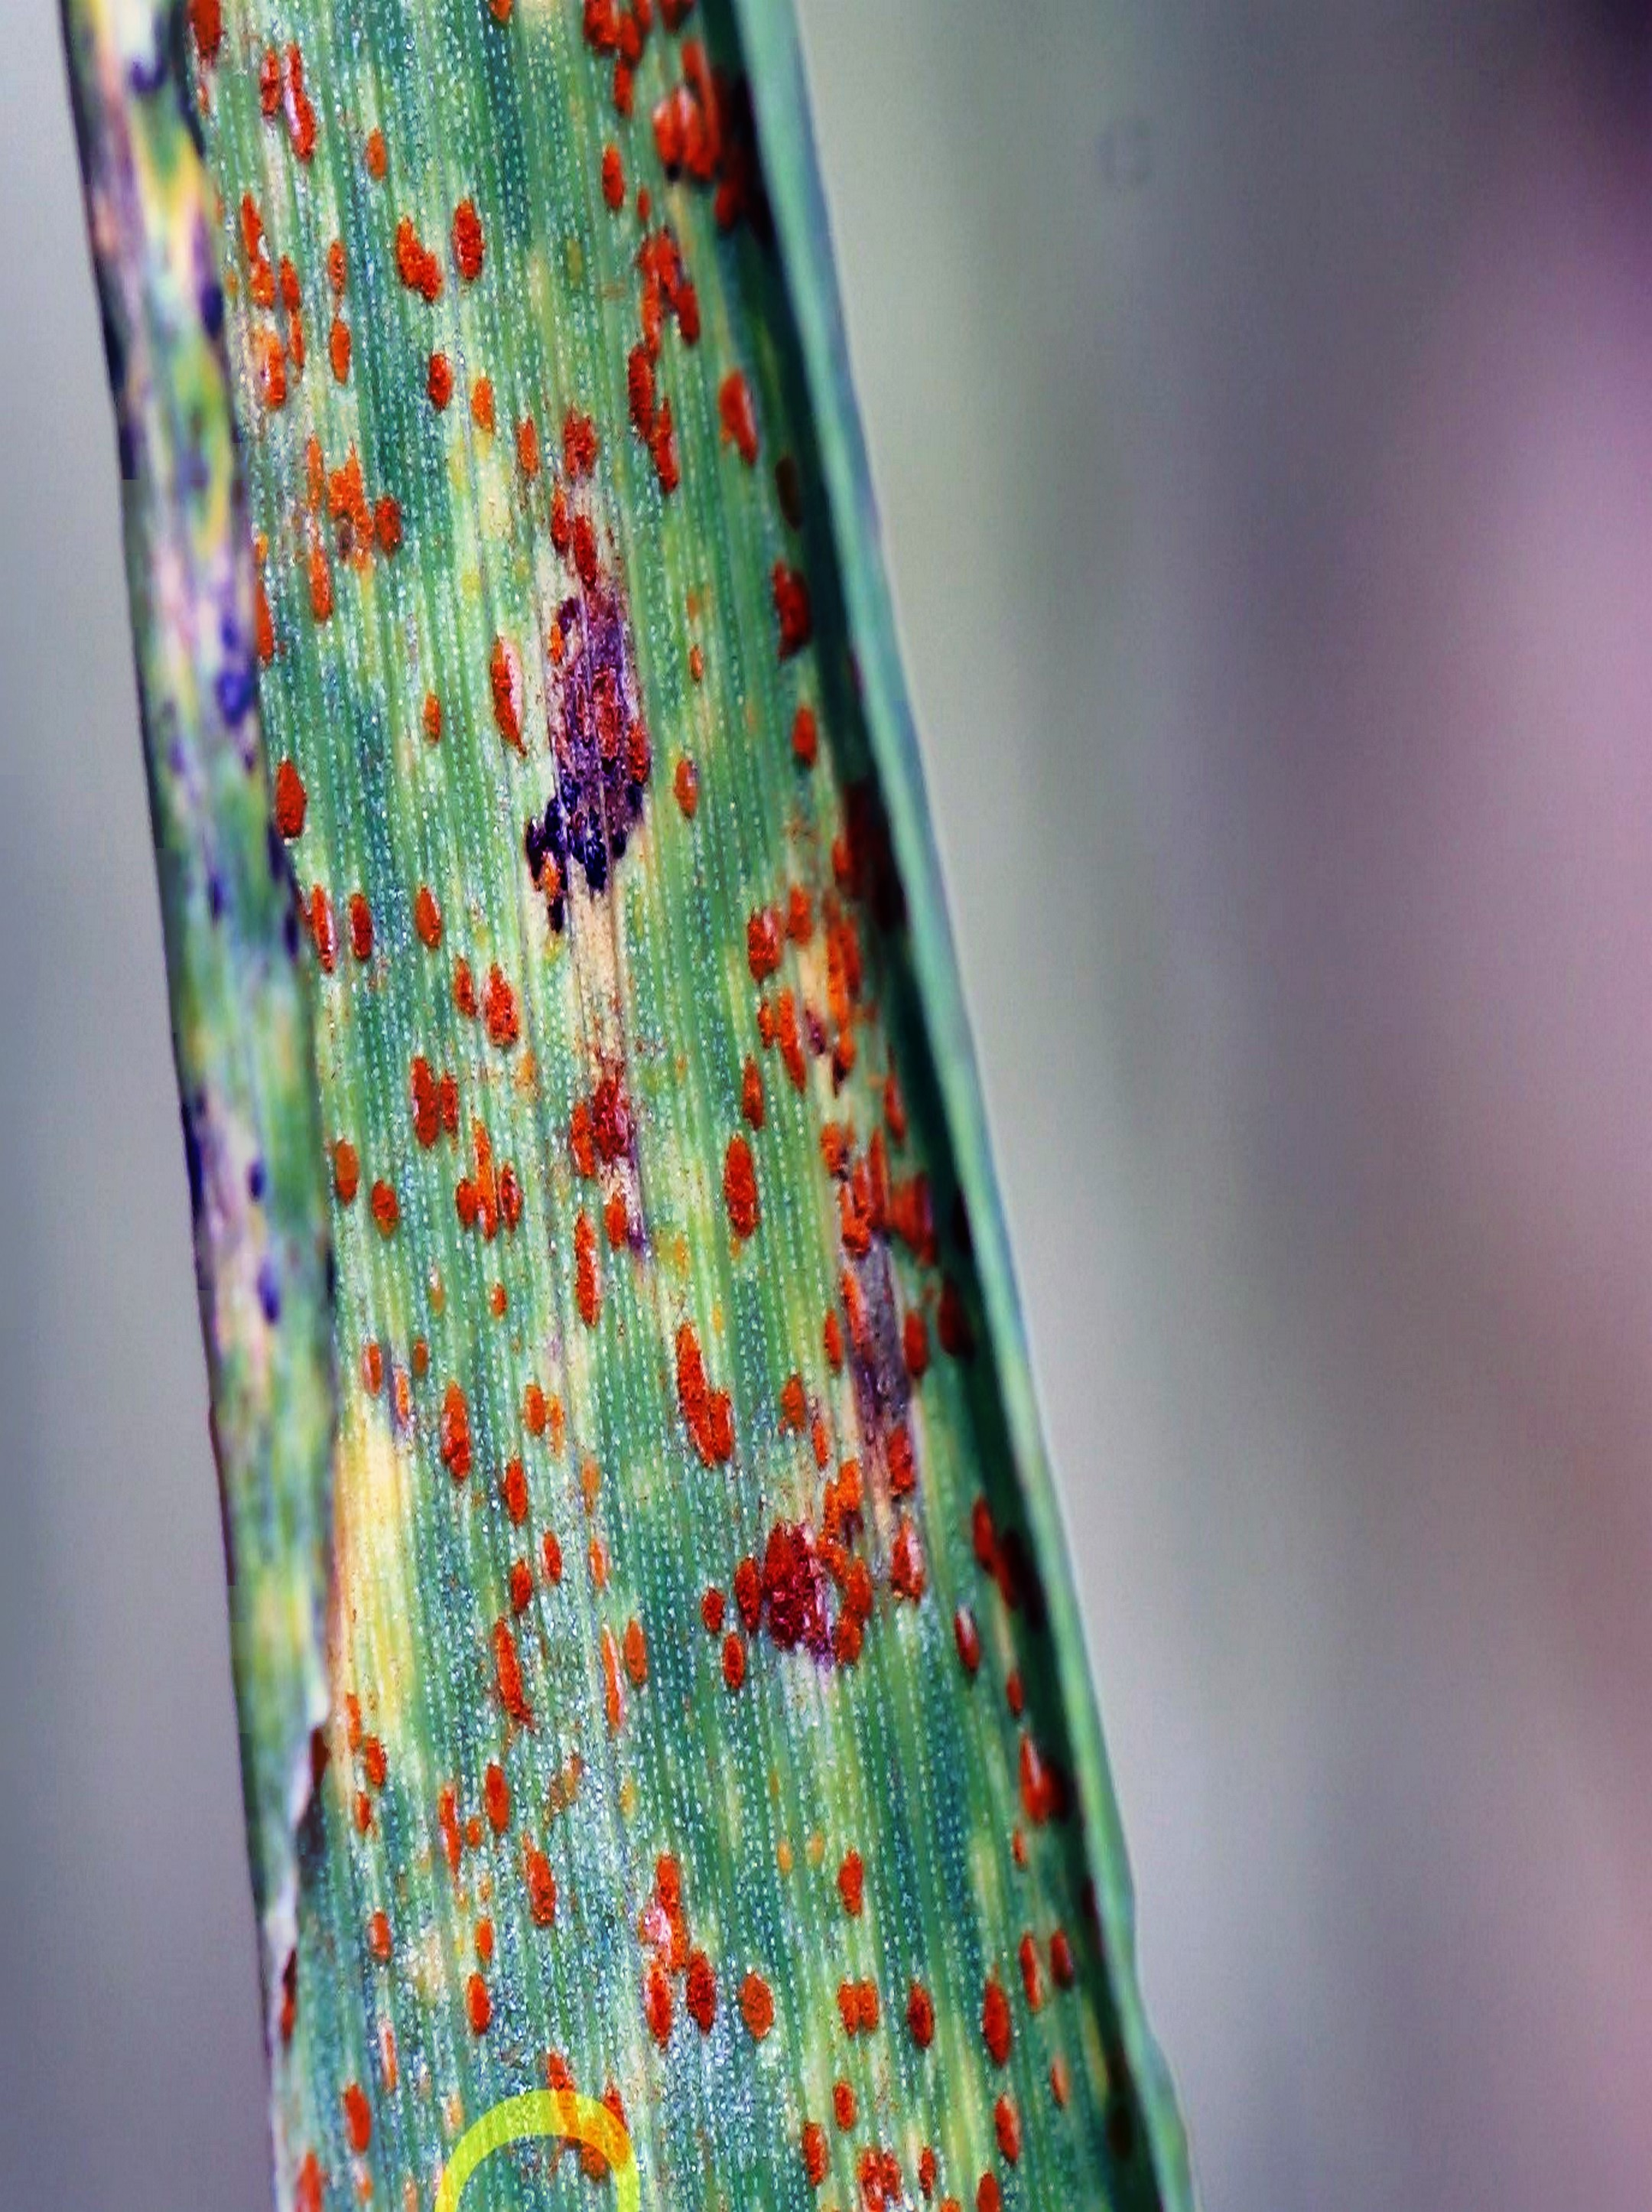Leaf Rust: (168, 92, 1126, 2058)
